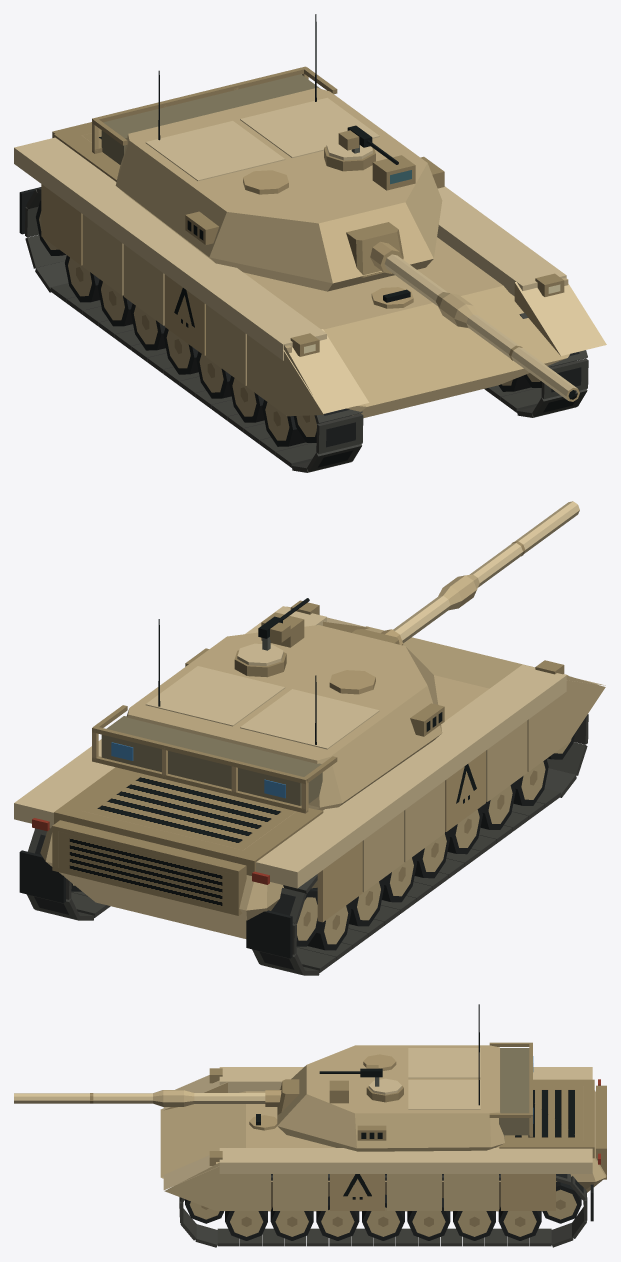
The picture shows the model from 3 angles, top to bottom: view 1: azimuth 30°, elevation 25°; view 2: azimuth 150°, elevation 25°; view 3: azimuth 270°, elevation 25°; orthographic projection. The views are drawn at different scales.
Parts seen in each view (by area): view 1: Base, Turret, Gun, TrackL18, WheelL1, WheelL6, WheelL5, WheelL4, WheelL2, WheelL3, WheelL7, TrackR18 (+6 smaller); view 2: Base, Turret, Gun, WheelL7, WheelL6, WheelL4, WheelL5, WheelL2, WheelL1, WheelL3, IdlerLRear, TrackL19 (+3 smaller); view 3: Base, Turret, Gun, WheelR3, WheelR5, WheelR4, WheelR2, WheelR7, WheelR1, WheelR6, IdlerRRear, IdlerRFront (+10 smaller).
Boxes of the visible parts, x1,y1,x2,y2 form: Base: (14, 122, 606, 418); Turret: (92, 14, 444, 291); Gun: (346, 222, 579, 401); TrackL18: (316, 413, 363, 453); WheelL1: (262, 399, 305, 446); WheelL6: (97, 279, 132, 326); WheelL5: (130, 303, 165, 350); WheelL4: (163, 327, 198, 374); WheelL2: (229, 376, 264, 422); WheelL3: (196, 351, 231, 398); WheelL7: (65, 255, 99, 302); TrackR18: (541, 358, 588, 399); Base: (14, 600, 605, 958); Turret: (92, 598, 444, 813); Gun: (352, 501, 579, 645); WheelL7: (307, 887, 351, 950); WheelL6: (349, 879, 384, 926); WheelL4: (414, 831, 449, 878); WheelL5: (382, 855, 416, 902); WheelL2: (480, 783, 515, 829); WheelL1: (513, 759, 548, 805); WheelL3: (447, 807, 482, 854); IdlerLRear: (294, 889, 319, 946); TrackL19: (547, 742, 587, 775); Base: (160, 1067, 606, 1221); Turret: (277, 1004, 533, 1151); Gun: (14, 1079, 299, 1114); WheelR3: (316, 1196, 359, 1240); WheelR5: (407, 1198, 450, 1240); WheelR4: (362, 1194, 404, 1240); WheelR2: (270, 1207, 313, 1240); WheelR7: (498, 1207, 541, 1240); WheelR1: (225, 1211, 267, 1240); WheelR6: (453, 1211, 495, 1240); IdlerRRear: (542, 1181, 581, 1223); IdlerRFront: (185, 1199, 224, 1223).
Bounding box in the file's own units: 43.8 × 39.22 × 114.
Materials: 1 (1 with a texture image).
